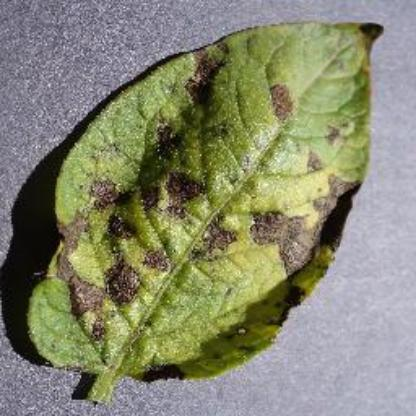Early-Blight: (21, 14, 413, 406)
